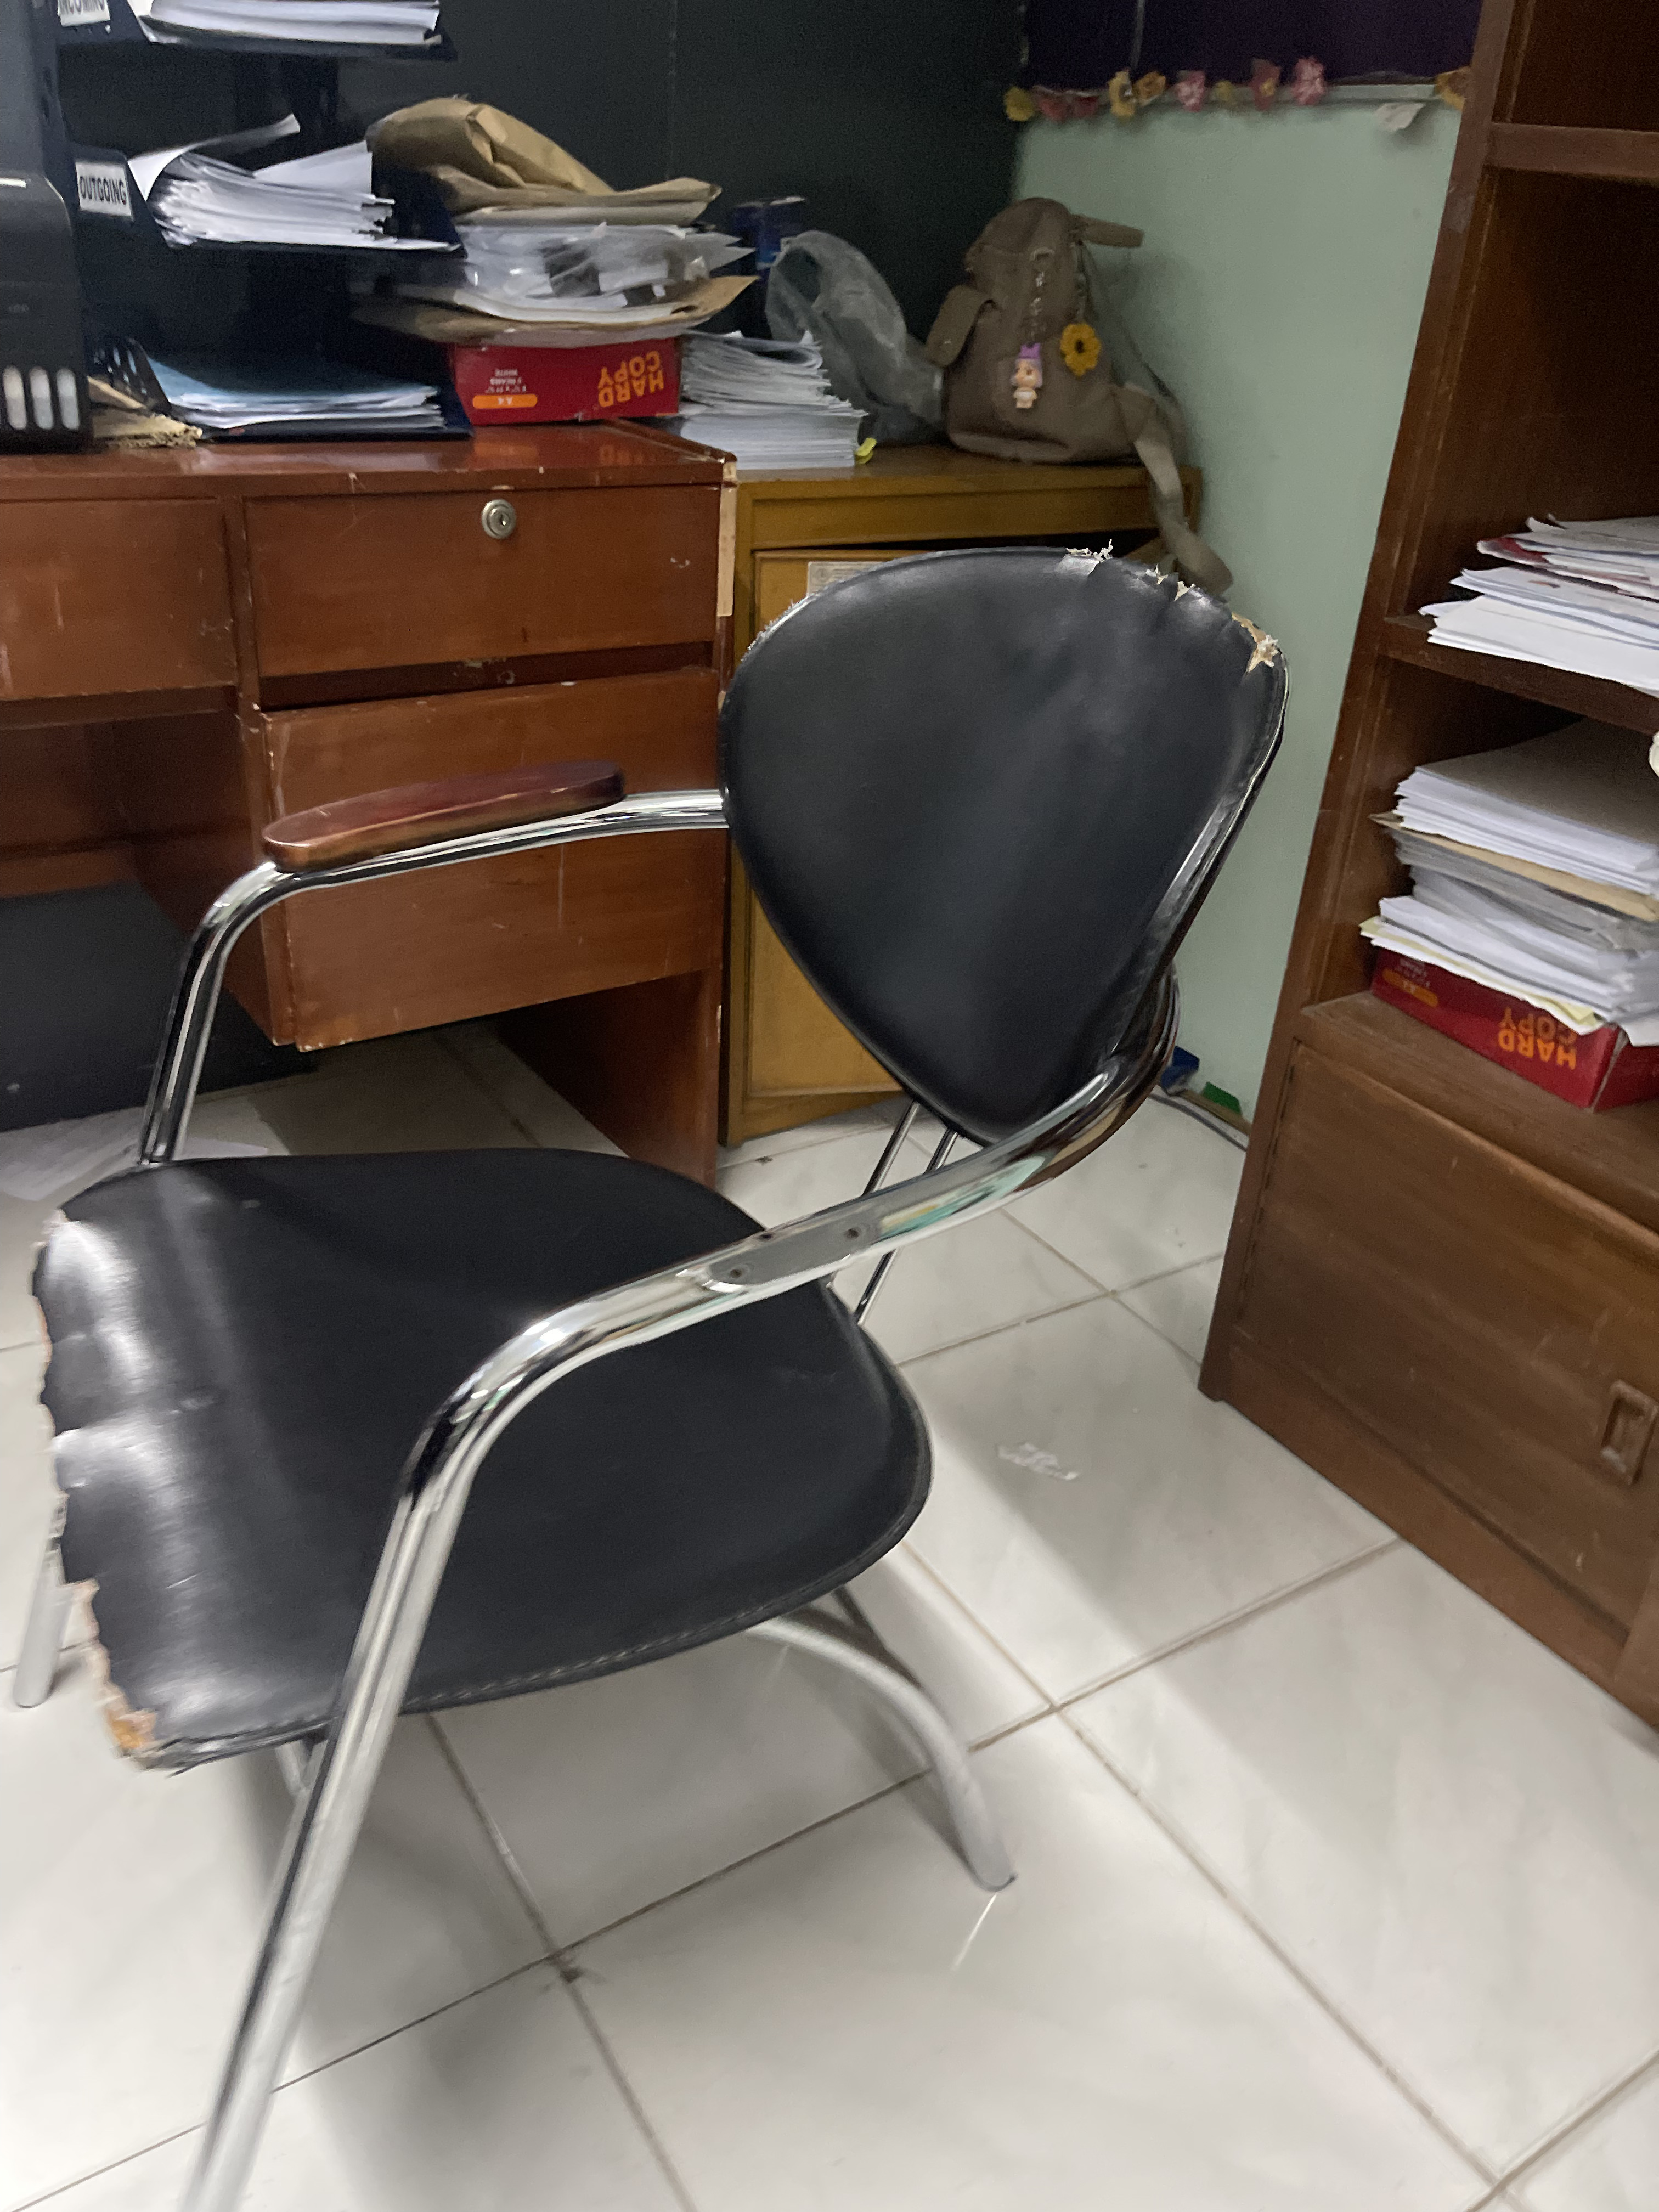chair1: (17, 542, 1297, 2212)
